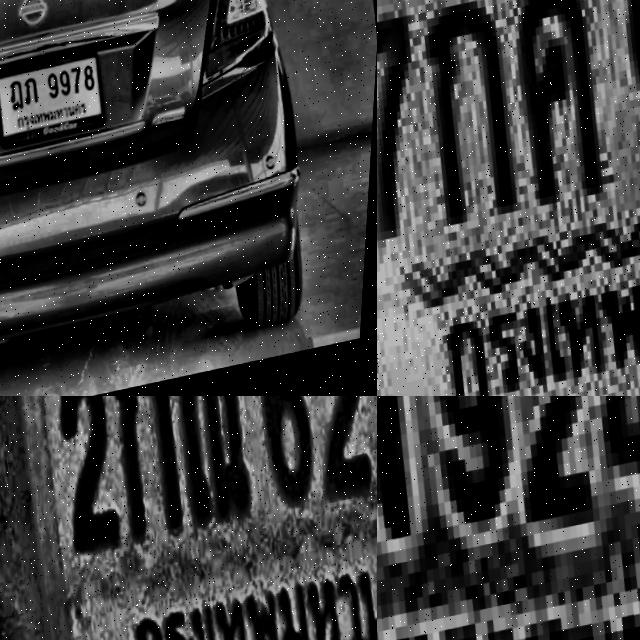license-plate: (377, 0, 640, 396), (0, 396, 377, 640), (377, 396, 640, 640), (0, 46, 122, 160)
